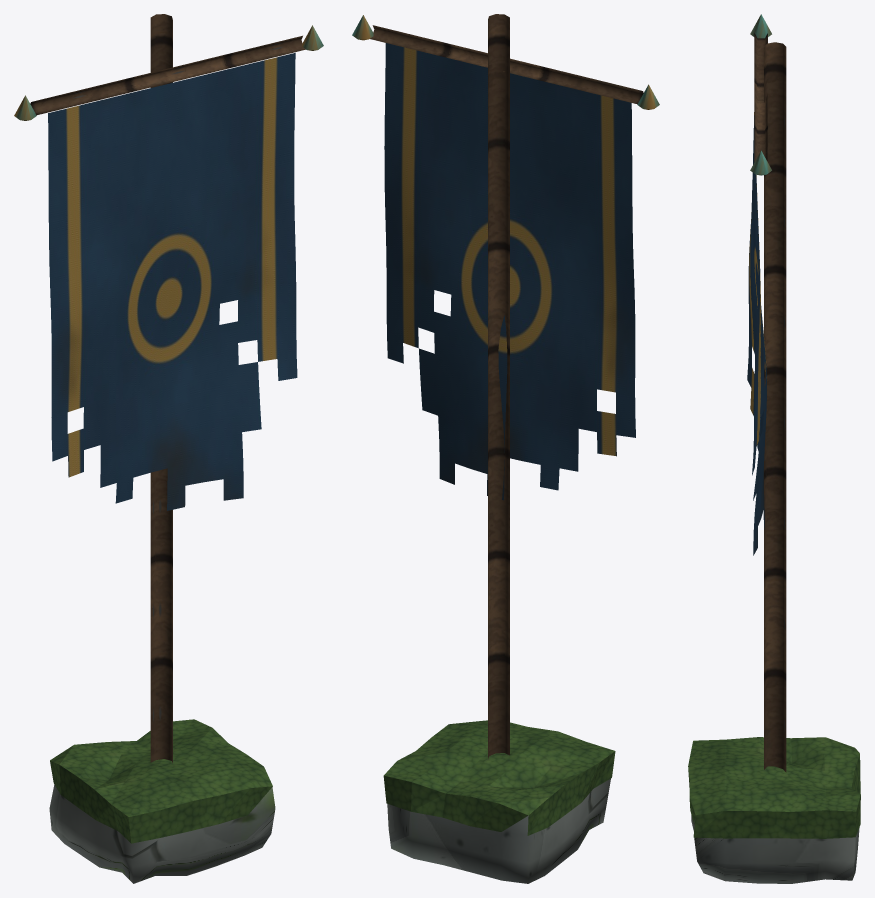
The model's file is ancient_ceremonial_banner.glb.
3 views of the same model, side by side, from view 1: azimuth 30°, elevation 25°; view 2: azimuth 150°, elevation 25°; view 3: azimuth 270°, elevation 25° (orthographic). The views are drawn at different scales.
Parts seen in each view (by area): view 1: ancient_ceremonial_banner__cloth, ancient_ceremonial_banner__moss, ancient_ceremonial_banner__wood_dark, ancient_ceremonial_banner__stone_block, ancient_ceremonial_banner__bronze; view 2: ancient_ceremonial_banner__cloth, ancient_ceremonial_banner__wood_dark, ancient_ceremonial_banner__moss, ancient_ceremonial_banner__stone_block, ancient_ceremonial_banner__bronze; view 3: ancient_ceremonial_banner__wood_dark, ancient_ceremonial_banner__moss, ancient_ceremonial_banner__stone_block, ancient_ceremonial_banner__cloth, ancient_ceremonial_banner__bronze.
Boxes of the visible parts, x1,y1,x2,y2 form: ancient_ceremonial_banner__cloth: (48,53,297,510); ancient_ceremonial_banner__moss: (50,719,272,843); ancient_ceremonial_banner__wood_dark: (30,14,305,763); ancient_ceremonial_banner__stone_block: (49,785,275,883); ancient_ceremonial_banner__bronze: (14,25,323,120); ancient_ceremonial_banner__cloth: (384,43,635,500); ancient_ceremonial_banner__wood_dark: (370,14,643,758); ancient_ceremonial_banner__moss: (383,720,615,835); ancient_ceremonial_banner__stone_block: (387,778,610,883); ancient_ceremonial_banner__bronze: (352,15,659,109); ancient_ceremonial_banner__wood_dark: (754,33,786,772); ancient_ceremonial_banner__moss: (688,737,860,838); ancient_ceremonial_banner__stone_block: (691,815,859,883); ancient_ceremonial_banner__cloth: (747,112,766,555); ancient_ceremonial_banner__bronze: (750,14,771,175).
Size of the model in its own units: 1.23 by 3.2 by 0.6211.
5 materials, 5 textured.
